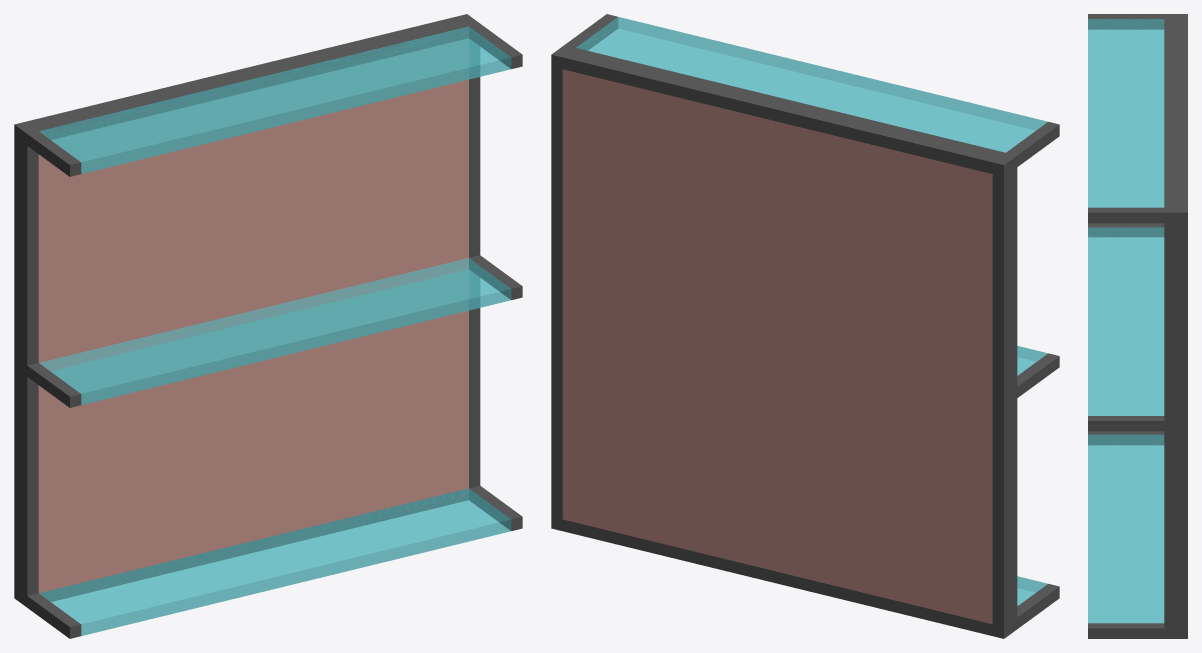
The model's file is Bar Shelf.fbx.
The picture shows the model from 3 angles, left to right: view 1: azimuth 30°, elevation 25°; view 2: azimuth 150°, elevation 25°; view 3: azimuth 270°, elevation 25°; orthographic projection. The views are drawn at different scales.
Visible parts, largest first — view 1: Bar Shelf, Glass; view 2: Bar Shelf, Glass; view 3: Glass, Bar Shelf.
Part boxes in pixels (left/top/right/bottom): Bar Shelf: left=14, top=14, right=522, bottom=638; Glass: left=39, top=26, right=511, bottom=635; Bar Shelf: left=551, top=14, right=1059, bottom=638; Glass: left=576, top=17, right=1047, bottom=605; Glass: left=1088, top=19, right=1164, bottom=623; Bar Shelf: left=1088, top=14, right=1187, bottom=638.
Size of the model in its own units: 800 by 800 by 170.
